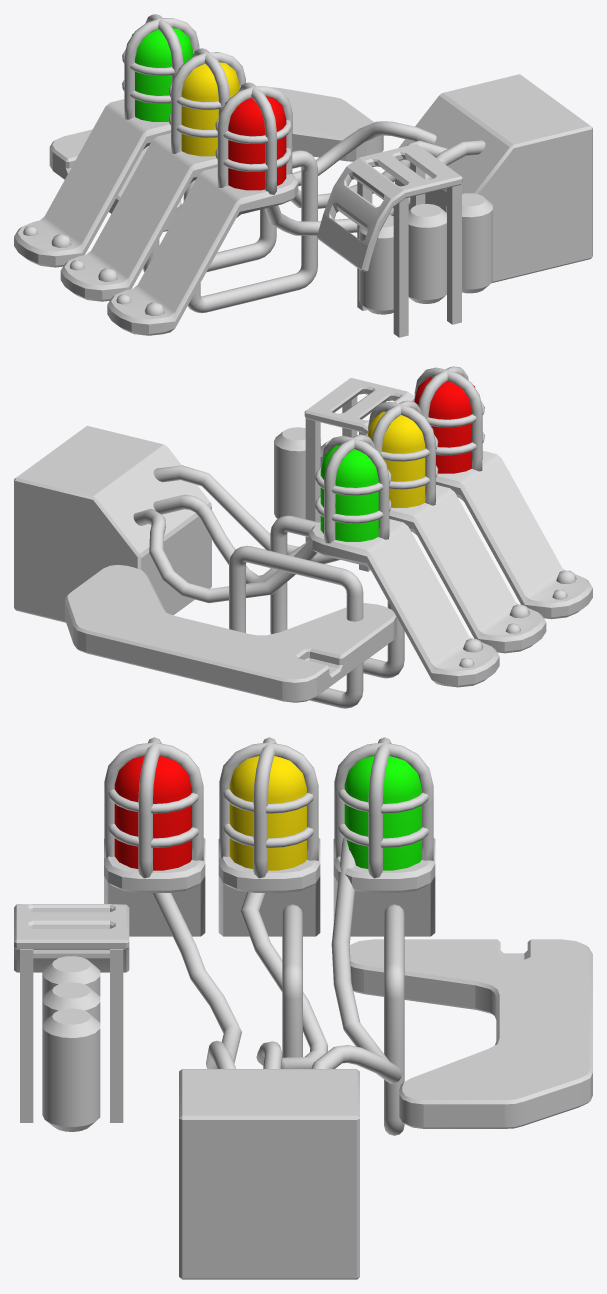
The model's file is static.fbx.
3 renders of one model, top to bottom at view 1: azimuth 30°, elevation 25°; view 2: azimuth 150°, elevation 25°; view 3: azimuth 270°, elevation 25°, orthographic. The views are drawn at different scales.
Visible parts, largest first — view 1: Cube_4, Cube, Cube_3, Cube_2, Boole, Boole_2, Sweep_7, Sweep_1, Cylinder_5, Cylinder, Cylinder_6, Cylinder_2 (+13 smaller); view 2: Cube_4, Boole_2, Cube_3, Cube, Cube_2, Sweep_7, Sweep_0, Cylinder_3, Sweep_1, Boole, Cylinder_2, Cylinder (+12 smaller); view 3: Cube_4, Boole_2, Sweep_7, Cylinder_6, Boole, Cube_2, Cube, Cube_3, Cylinder, Cylinder_2, Cylinder_3, Cube_2_2 (+16 smaller).
Part boxes in pixels (box(x1,y1,x2,y2)): Cube_4: box(395, 74, 592, 283); Cube: box(107, 167, 298, 335); Cube_3: box(14, 99, 170, 267); Cube_2: box(60, 133, 217, 301); Boole: box(317, 143, 462, 272); Boole_2: box(49, 87, 383, 231); Sweep_7: box(169, 103, 485, 235); Sweep_1: box(183, 150, 317, 313); Cylinder_5: box(408, 204, 446, 303); Cylinder: box(225, 96, 286, 190); Cylinder_6: box(446, 193, 492, 293); Cylinder_2: box(178, 62, 239, 156); Cube_4: box(14, 425, 211, 622); Boole_2: box(65, 565, 396, 702); Cube_3: box(308, 519, 499, 687); Cube: box(436, 451, 592, 619); Cube_2: box(389, 485, 546, 653); Sweep_7: box(133, 465, 339, 603); Sweep_0: box(229, 545, 363, 708); Cylinder_3: box(320, 445, 381, 541); Sweep_1: box(270, 515, 404, 678); Boole: box(304, 378, 414, 434); Cylinder_2: box(367, 411, 428, 507); Cylinder: box(414, 377, 475, 473); Cube_4: box(179, 1069, 359, 1279); Boole_2: box(349, 939, 592, 1128); Sweep_7: box(152, 837, 401, 1083); Cylinder_6: box(42, 1008, 100, 1131); Boole: box(14, 904, 129, 972); Cube_2: box(218, 838, 320, 936); Cube: box(104, 838, 205, 936); Cube_3: box(333, 838, 435, 936); Cylinder: box(114, 756, 191, 870); Cylinder_2: box(229, 756, 306, 870); Cylinder_3: box(344, 756, 421, 870); Cube_2_2: box(20, 949, 123, 1122).
Size of the model in its own units: 219 by 115 by 182.
3 materials, 3 textured.
